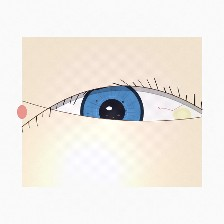pinguecula_lesion: (164, 100, 200, 129)
